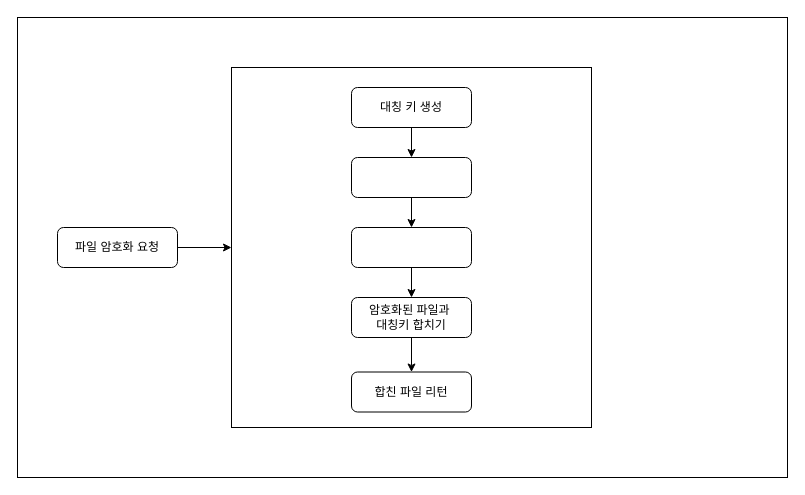
Image size: 805x495. Some labels were removed from this diagram. Each missing label, with the box of its shape:
공개키로 대칭키 비대칭 암호화 처리: (350, 226, 472, 268)
대칭 암호화로 파일 암호화 처리: (350, 156, 472, 198)
